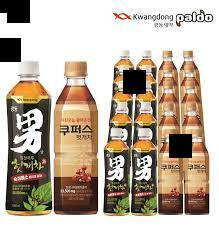heotgaecha: (7, 62, 52, 218), (103, 127, 131, 217), (132, 128, 158, 216)
